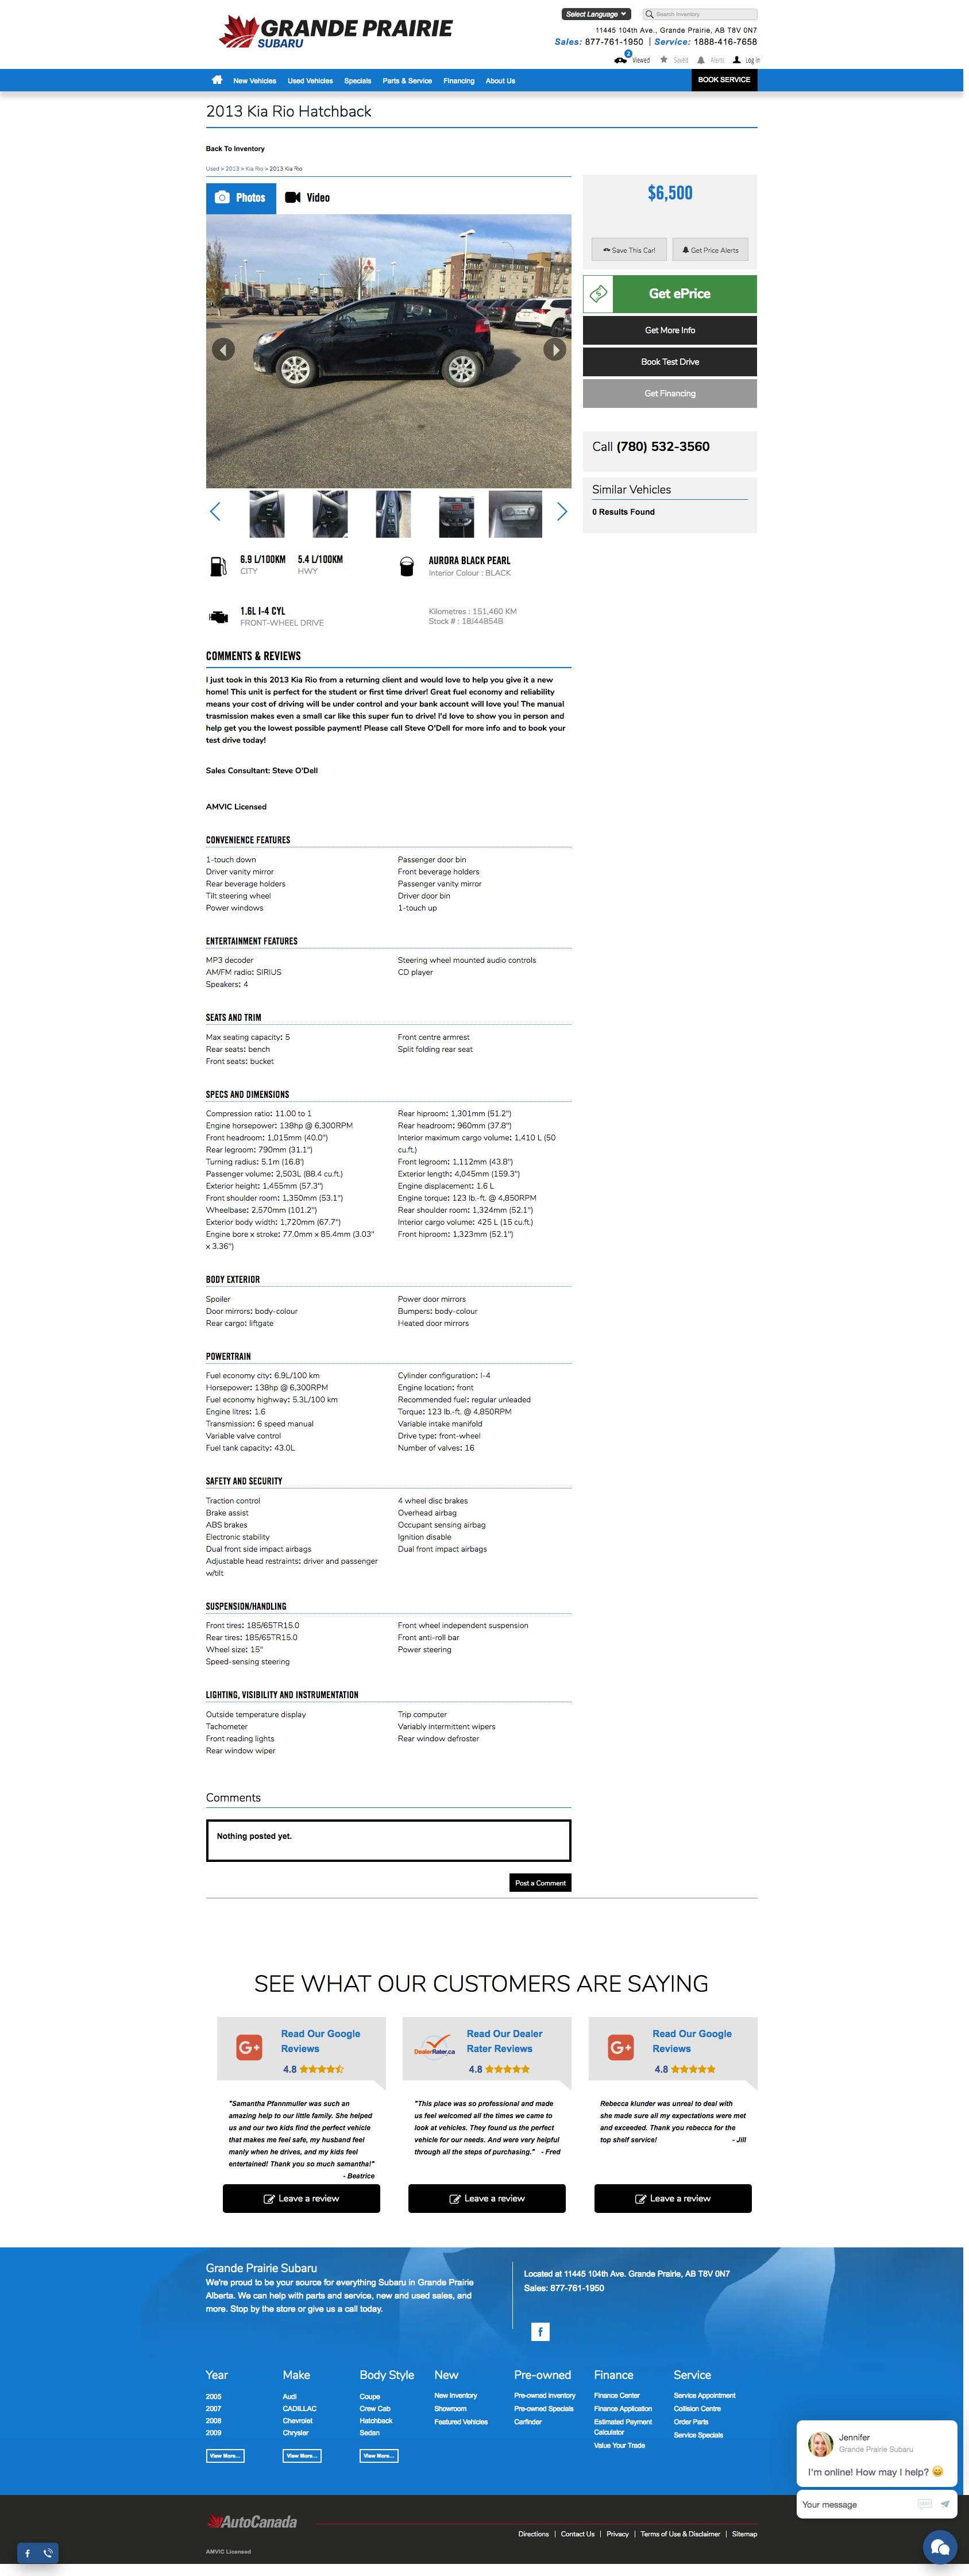car: (558, 503, 568, 522)
